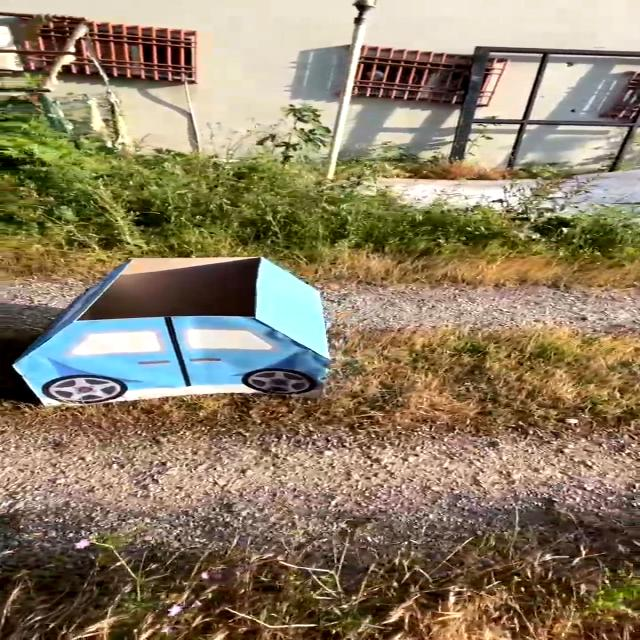blue_car: (0, 233, 382, 436)
